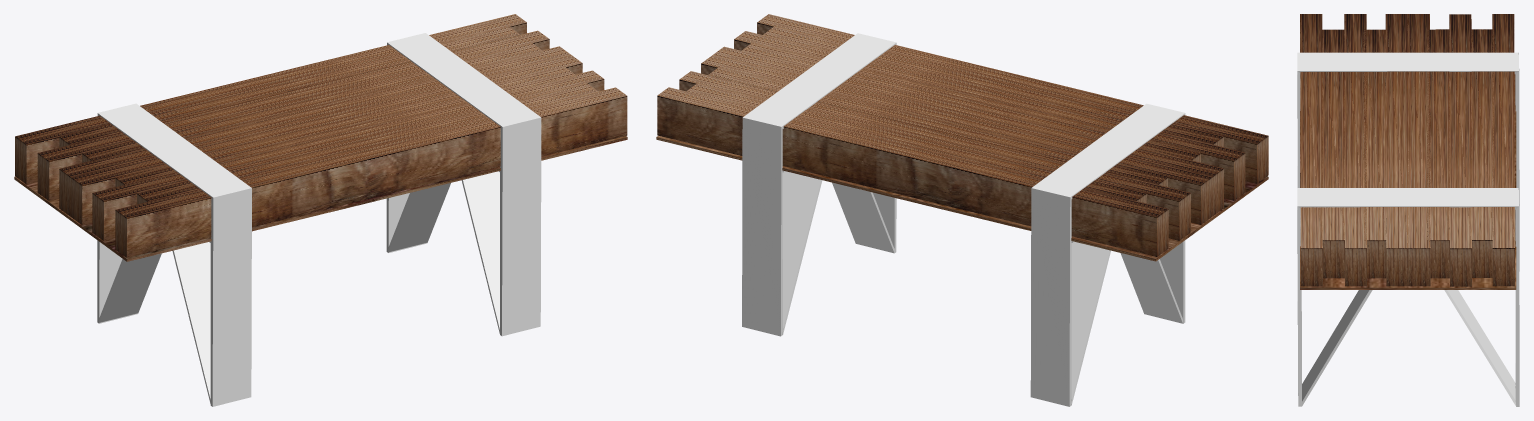
Rendered from table_2.glb.
3 renders of one model, left to right at view 1: azimuth 30°, elevation 25°; view 2: azimuth 150°, elevation 25°; view 3: azimuth 270°, elevation 25°, orthographic. The views are drawn at different scales.
Visible parts, largest first — view 1: plateau.016, Cube.027, Cube.037, plateau.014, plateau.017, plateau.011, plateau.019, plateau.013, Cube.030, Cube.036, plateau.018, plateau.015 (+9 smaller); view 2: plateau.019, Cube.031, Cube.035, plateau.016, plateau.017, plateau.011, plateau.013, plateau.014, Cube.030, Cube.036, plateau.012, plateau.015 (+9 smaller); view 3: plateau.019, plateau.016, plateau.014, plateau.017, plateau.013, plateau.011, plateau.015, plateau.020, plateau.018, plateau.012, Cube.030, Cube.036 (+7 smaller).
Boxes of the visible parts, box(x1,y1,x2,y2) form: plateau.016: box(115, 87, 627, 257); Cube.027: box(210, 188, 251, 406); Cube.037: box(500, 117, 541, 336); plateau.014: box(70, 55, 582, 225); plateau.017: box(37, 30, 549, 201); plateau.011: box(92, 70, 604, 240); plateau.019: box(15, 14, 526, 184); plateau.013: box(59, 46, 570, 216); Cube.030: box(97, 103, 251, 198); Cube.036: box(387, 33, 540, 128); plateau.018: box(59, 26, 520, 147); plateau.015: box(137, 83, 598, 204); plateau.019: box(657, 87, 1168, 256); Cube.031: box(1030, 188, 1071, 406); Cube.035: box(742, 118, 782, 336); plateau.016: box(757, 14, 1268, 183); plateau.017: box(679, 71, 1190, 240); plateau.011: box(734, 31, 1245, 200); plateau.013: box(701, 55, 1212, 224); plateau.014: box(713, 46, 1223, 215); Cube.030: box(1032, 103, 1185, 199); Cube.036: box(743, 33, 896, 128); plateau.012: box(708, 67, 1168, 186); plateau.015: box(763, 26, 1223, 147); plateau.019: box(1492, 14, 1514, 286); plateau.016: box(1300, 14, 1322, 286); plateau.014: box(1385, 14, 1408, 286); plateau.017: box(1449, 14, 1471, 286); plateau.013: box(1407, 14, 1430, 286); plateau.011: box(1344, 14, 1366, 286); plateau.015: box(1322, 29, 1344, 278); plateau.020: box(1363, 29, 1386, 278); plateau.018: box(1471, 29, 1494, 277); plateau.012: box(1427, 29, 1449, 278); Cube.030: box(1297, 52, 1518, 74); Cube.036: box(1297, 188, 1518, 209).
Bounding box in the file's own units: 1 × 0.4005 × 0.4018.
13 materials, 1 textured.
